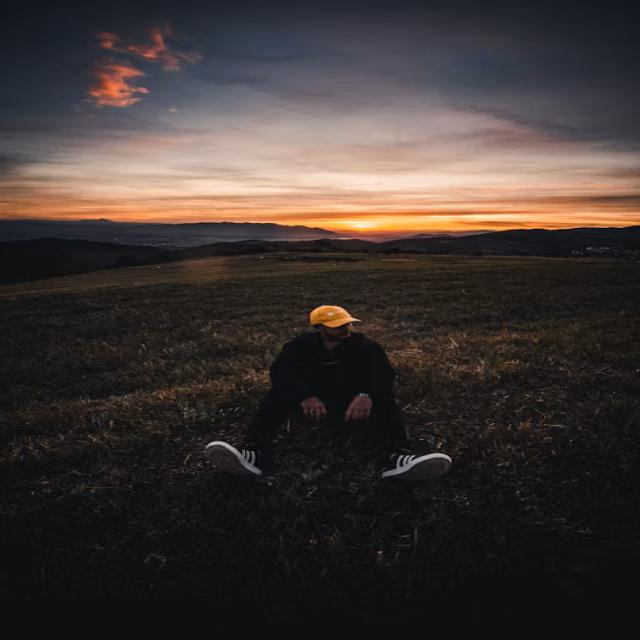Edited images: (172, 289, 502, 526)
